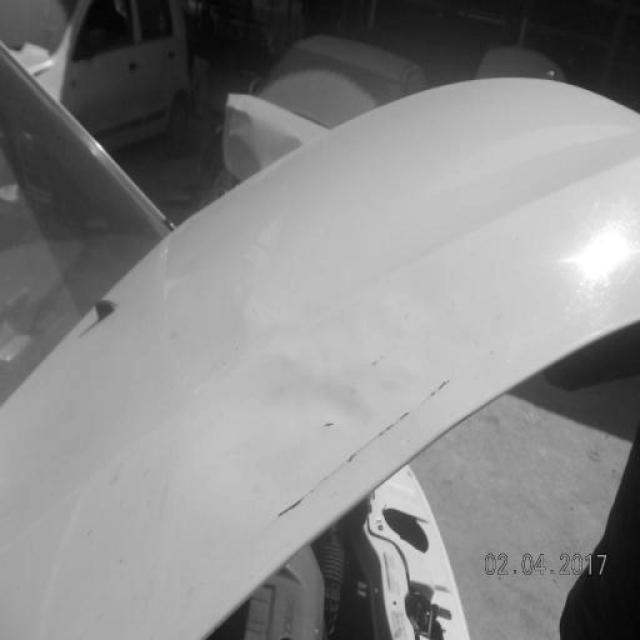dent: (267, 352, 376, 435)
scratch: (277, 374, 457, 519)
